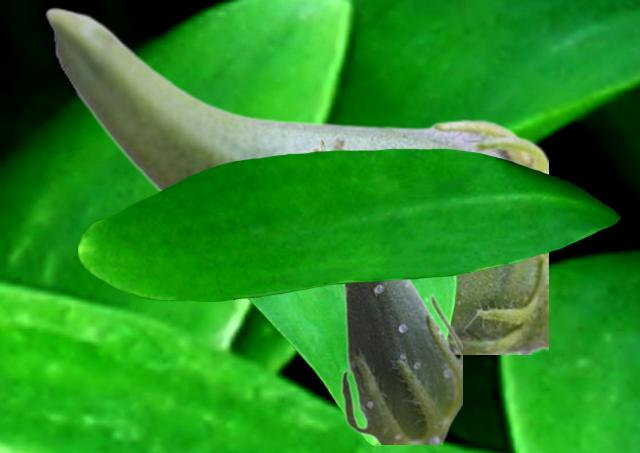okra: (44, 6, 547, 353), (299, 137, 461, 443)
